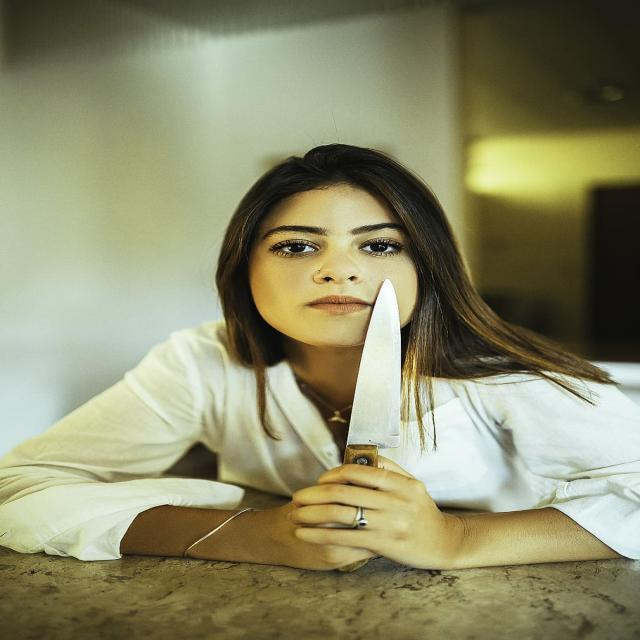knife: (348, 277, 412, 465)
